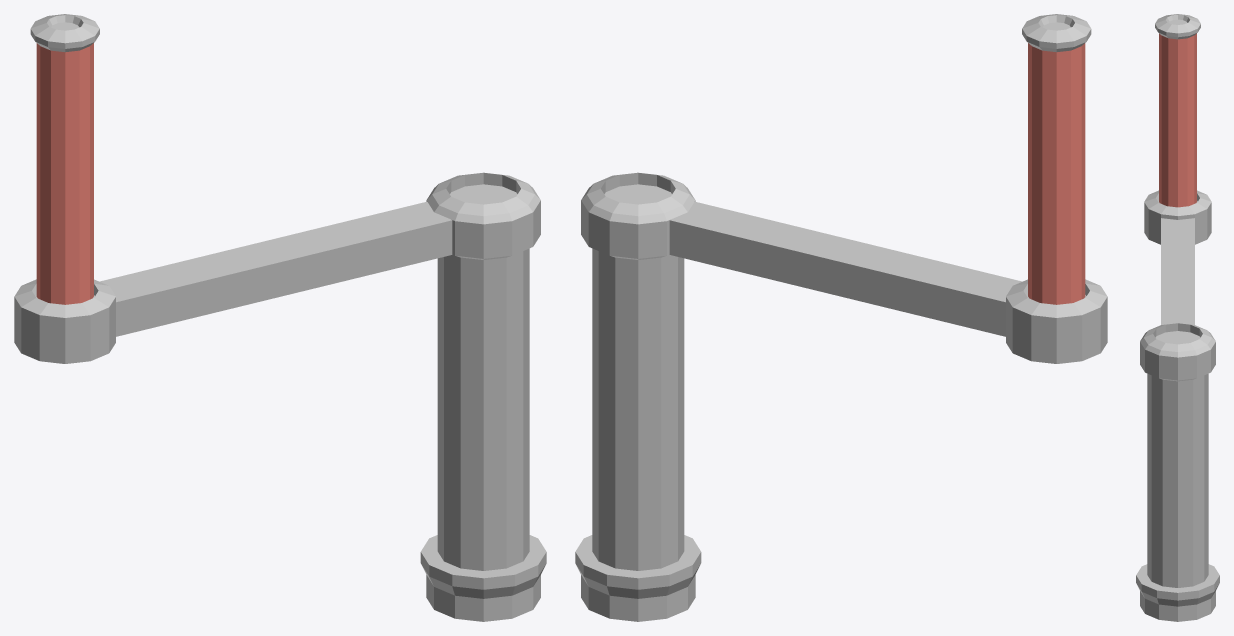
The model's file is rotating_lever.fbx.
3 renders of one model, left to right at view 1: azimuth 30°, elevation 25°; view 2: azimuth 150°, elevation 25°; view 3: azimuth 270°, elevation 25°, orthographic. The views are drawn at different scales.
Parts seen in each view (by area): view 1: mesh1555572011; view 2: mesh1555572011; view 3: mesh1555572011.
Part boxes in pixels (x1,y1,x2,y2): mesh1555572011: [14, 14, 546, 621]; mesh1555572011: [575, 14, 1107, 621]; mesh1555572011: [1136, 14, 1219, 621].
Size of the model in its own units: 28.17 by 35.25 by 5.94.
